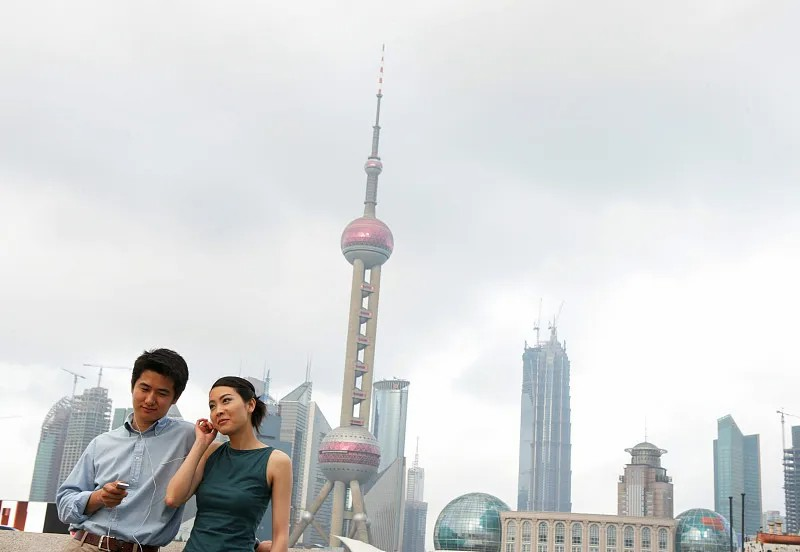Oriental: (290, 44, 393, 546)
